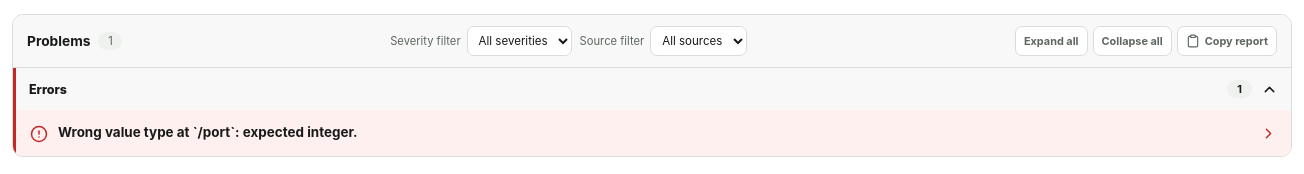
Test: filters by severity
Select "Warnings" in the dropdown labelled "Severity filter" at (519, 41), box top-left (467, 26), bottom-right (572, 56)
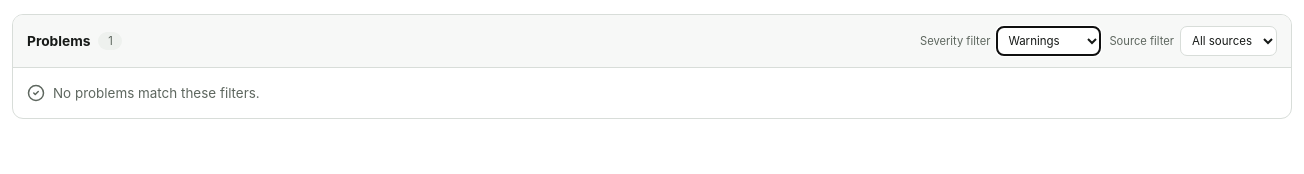
Now the text "No problems match these filters." is shown, box top-left (27, 84), bottom-right (260, 102)
